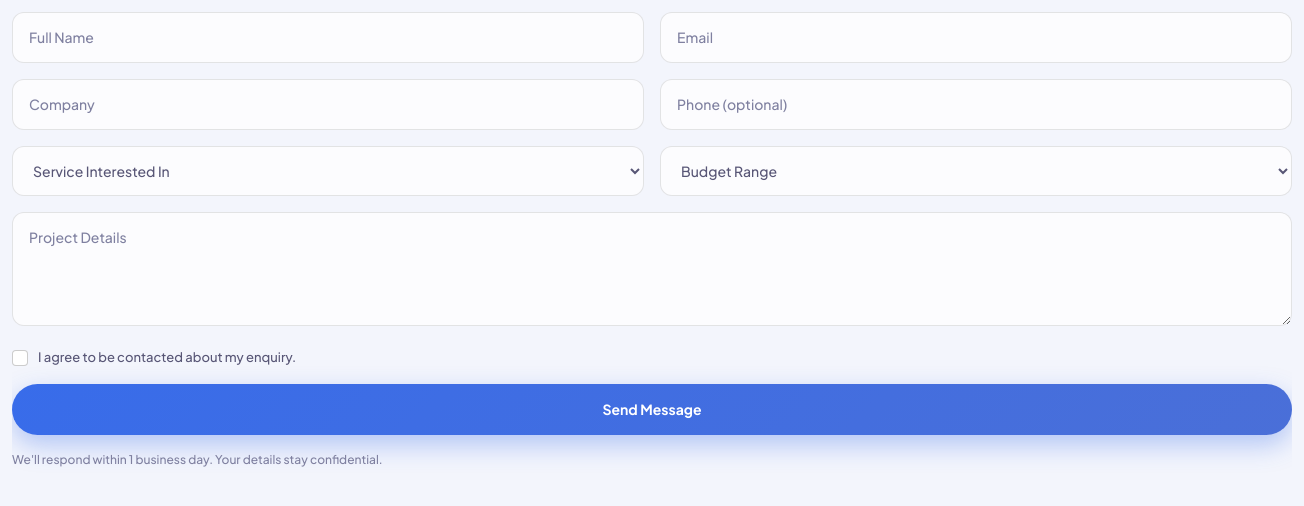
Test: ContactForm › clears a client-side error once the field becomes valid
Type "A" into the field with placeholder "Full Name".
click(328, 38); type("A")  # box [12,12,644,63]
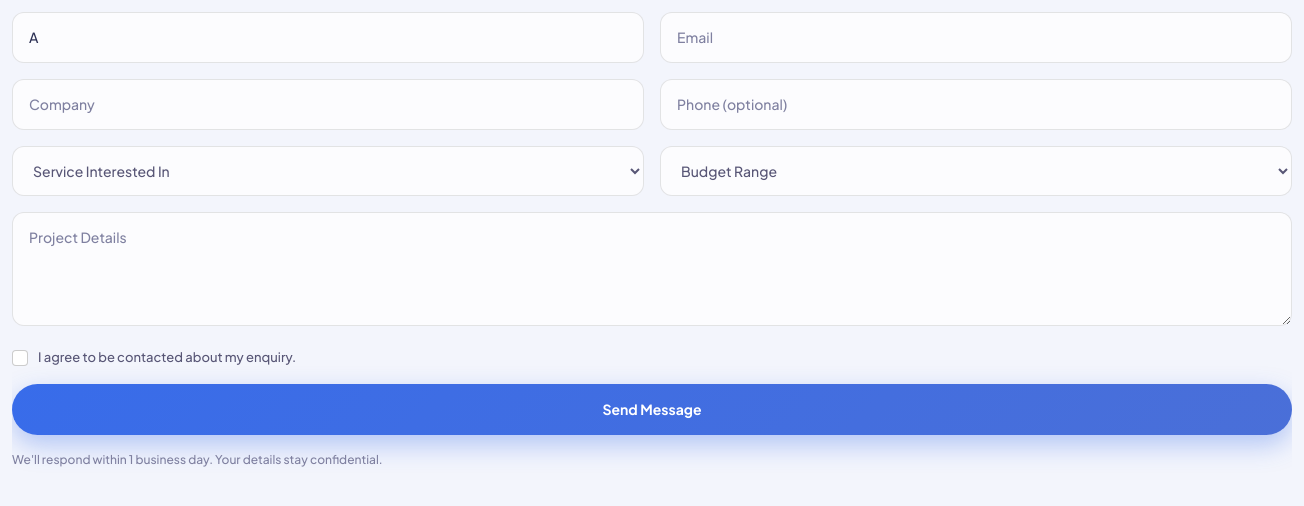
Leave the field with placeholder "Full Name", box [12,12,644,63]
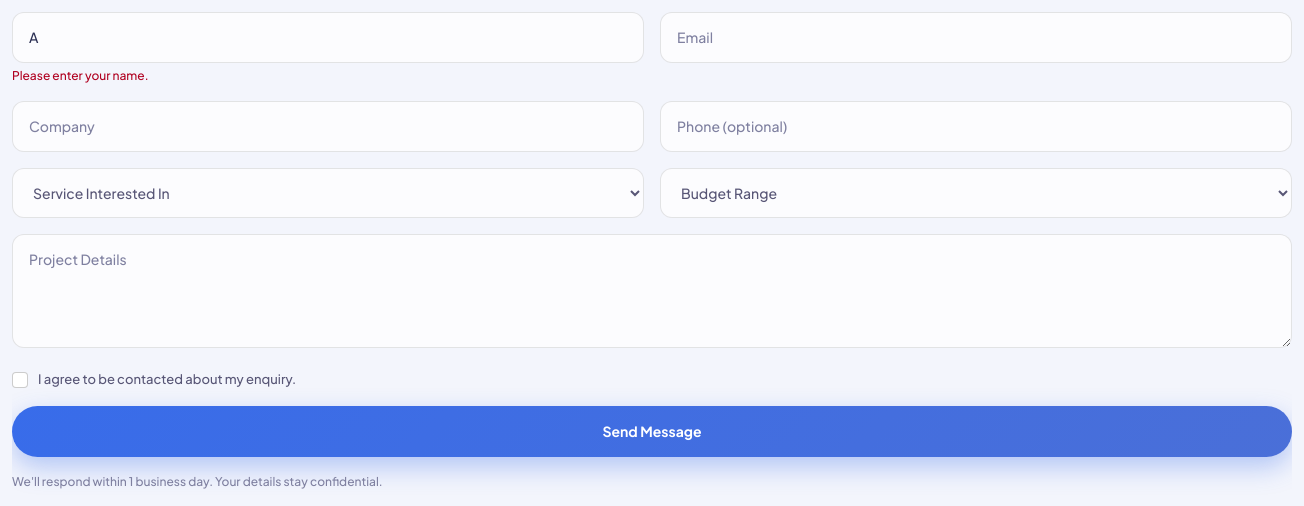
expect the text "Please enter your name." is shown: met, box [12,68,148,83]
Replace the text in the field with placeholder "Full Name" with "Abdul" at (328,38), box [12,12,644,63]
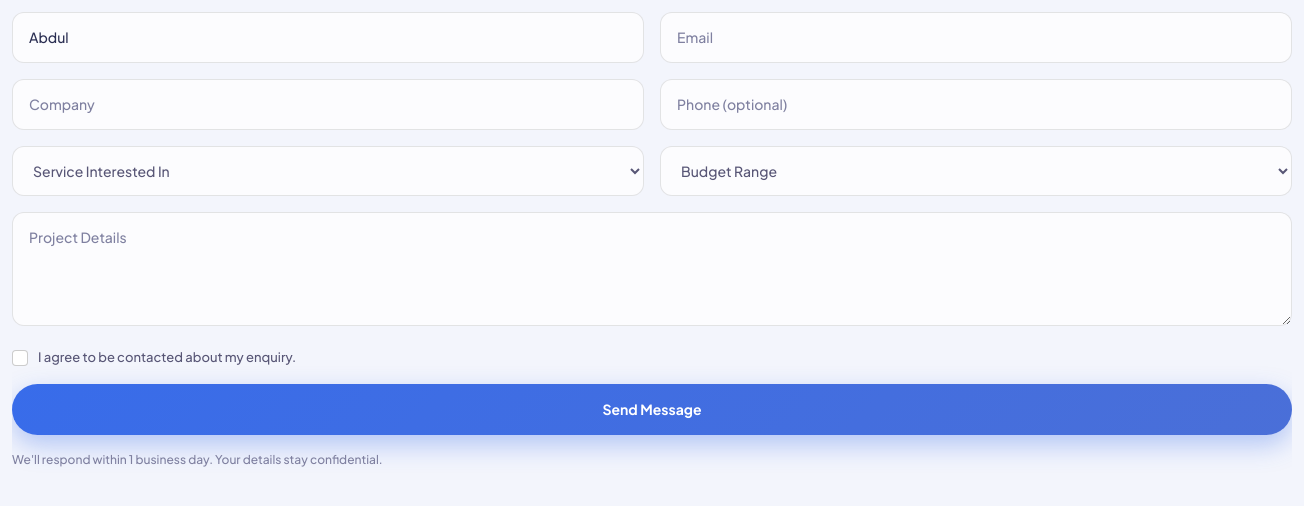
expect the text "Please enter your name." is gone: met
